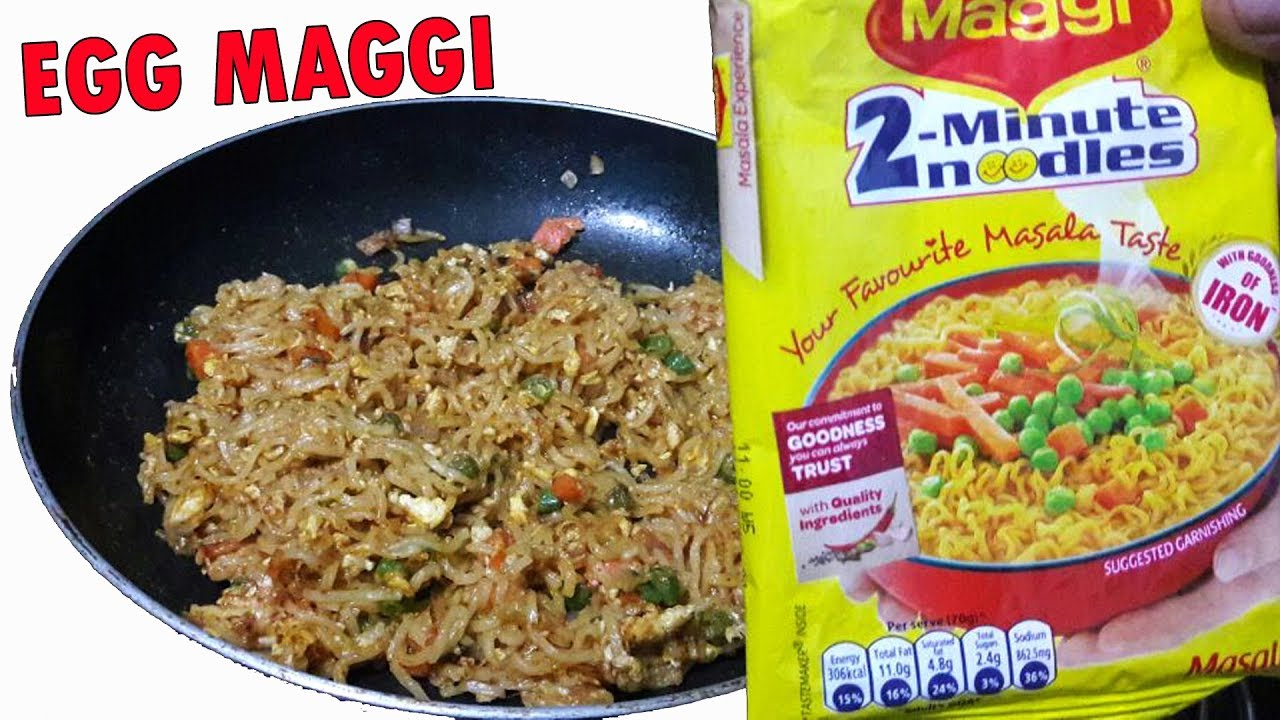maggie: (711, 1, 1278, 718)
